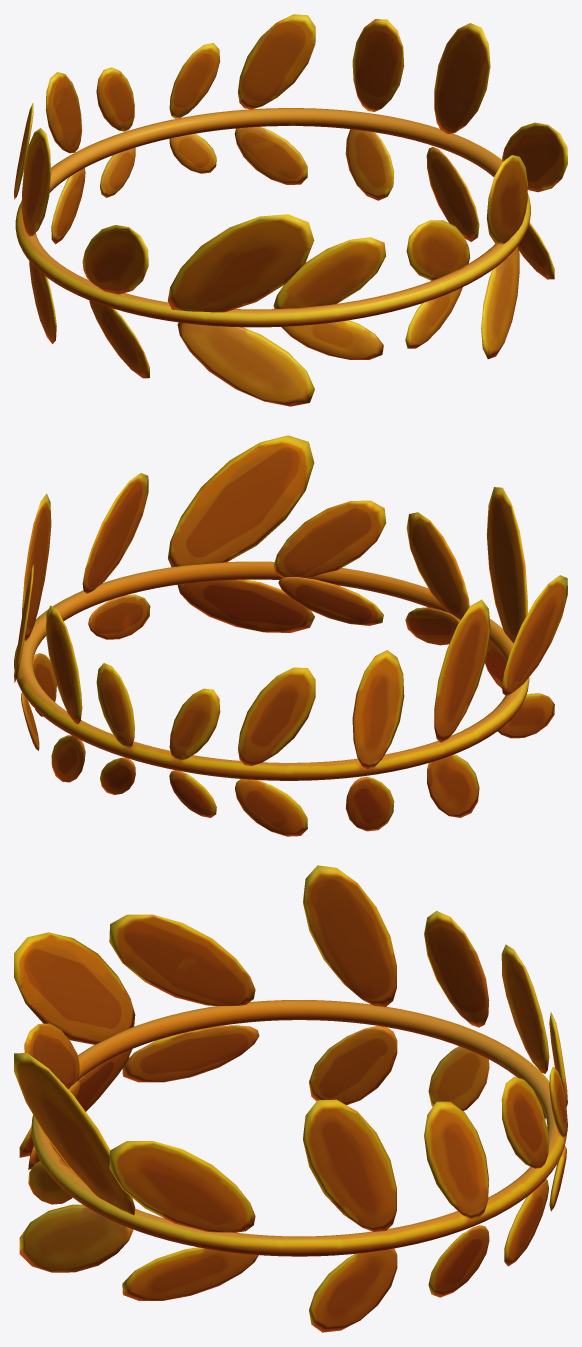
File: Char_Crown.fbx
The picture shows the model from 3 angles, top to bottom: view 1: azimuth 30°, elevation 25°; view 2: azimuth 150°, elevation 25°; view 3: azimuth 270°, elevation 25°; orthographic projection. The views are drawn at different scales.
Parts seen in each view (by area): view 1: Plane; view 2: Plane; view 3: Plane.
Boxes of the visible parts, x1,y1,x2,y2 form: Plane: [14, 14, 567, 406]; Plane: [14, 435, 567, 836]; Plane: [14, 865, 567, 1332].
Bounding box in the file's own units: 107 × 47.9 × 102.
Materials: 1 (1 with a texture image).
